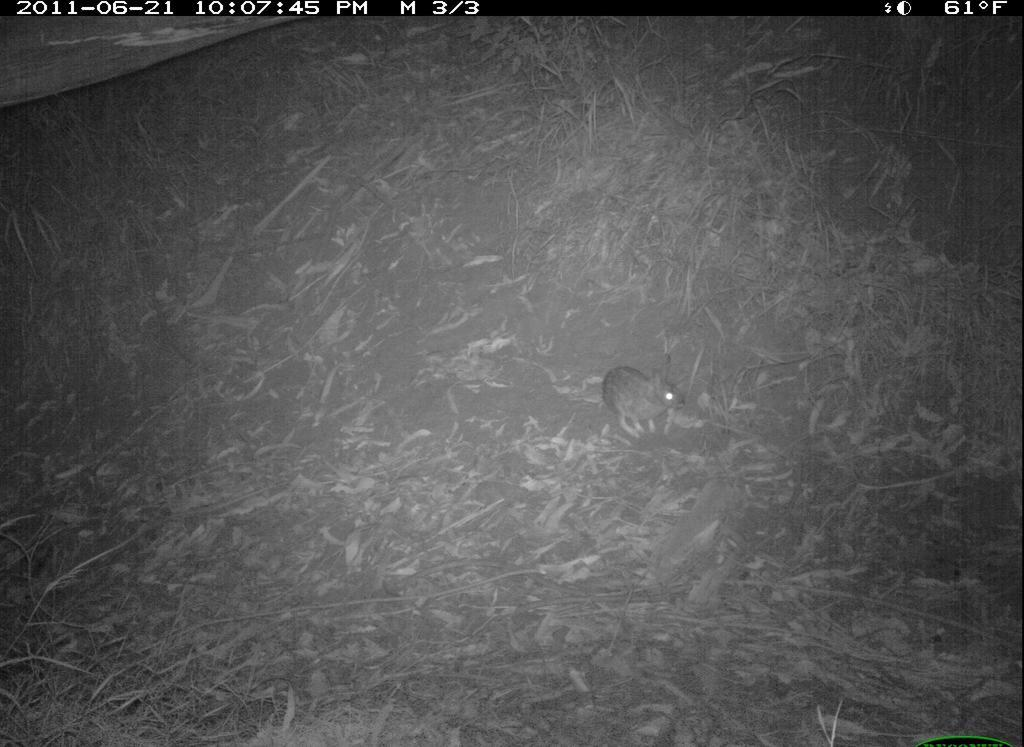rabbit: (588, 345, 695, 437)
